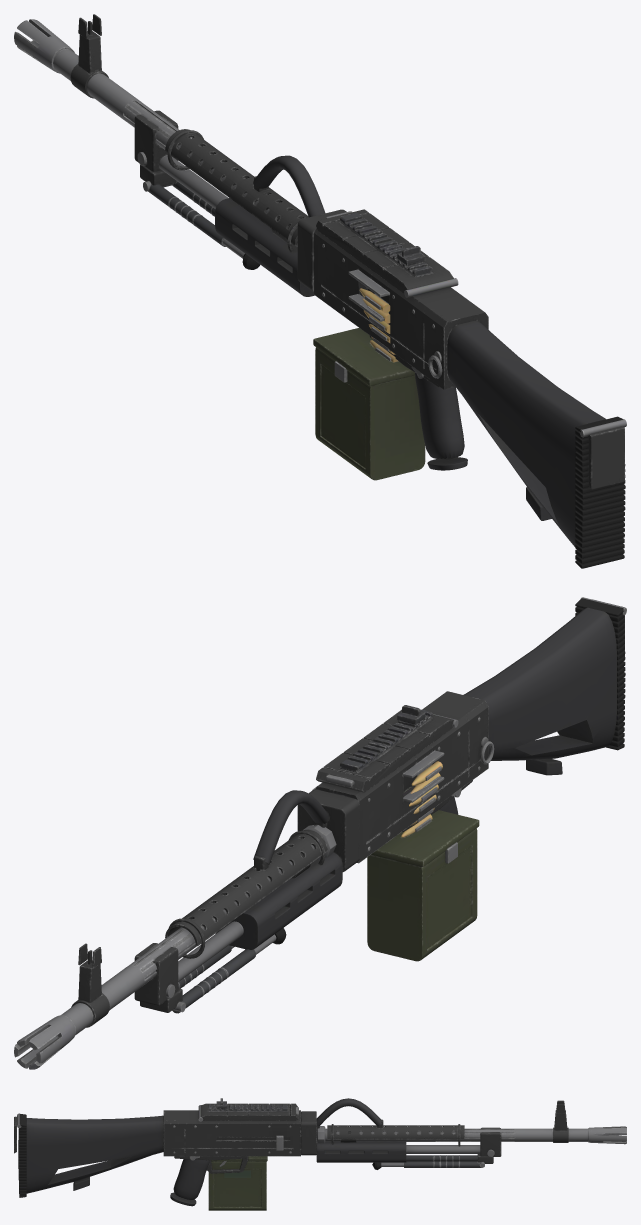
The model's file is benlei.glb.
The picture shows the model from 3 angles, top to bottom: view 1: azimuth 30°, elevation 25°; view 2: azimuth 150°, elevation 25°; view 3: azimuth 270°, elevation 25°; orthographic projection. The views are drawn at different scales.
Parts seen in each view (by area): view 1: body, magazine, cover, bipod; view 2: body, magazine, cover, bipod; view 3: body, magazine, cover, bipod.
Boxes of the visible parts, x1=… form: body: x1=14, y1=14, x2=626, y2=568; magazine: x1=313, y1=288, x2=425, y2=480; cover: x1=316, y1=209, x2=458, y2=297; bipod: x1=140, y1=165, x2=260, y2=269; body: x1=14, y1=597, x2=626, y2=1069; magazine: x1=367, y1=761, x2=479, y2=961; cover: x1=316, y1=705, x2=458, y2=792; bipod: x1=140, y1=928, x2=286, y2=1013; body: x1=14, y1=1098, x2=626, y2=1206; magazine: x1=208, y1=1156, x2=267, y2=1210; cover: x1=198, y1=1098, x2=298, y2=1121; bipod: x1=372, y1=1154, x2=493, y2=1169.
Size of the model in its own units: 0.114 by 0.2355 by 1.16.
2 materials, 1 textured.
